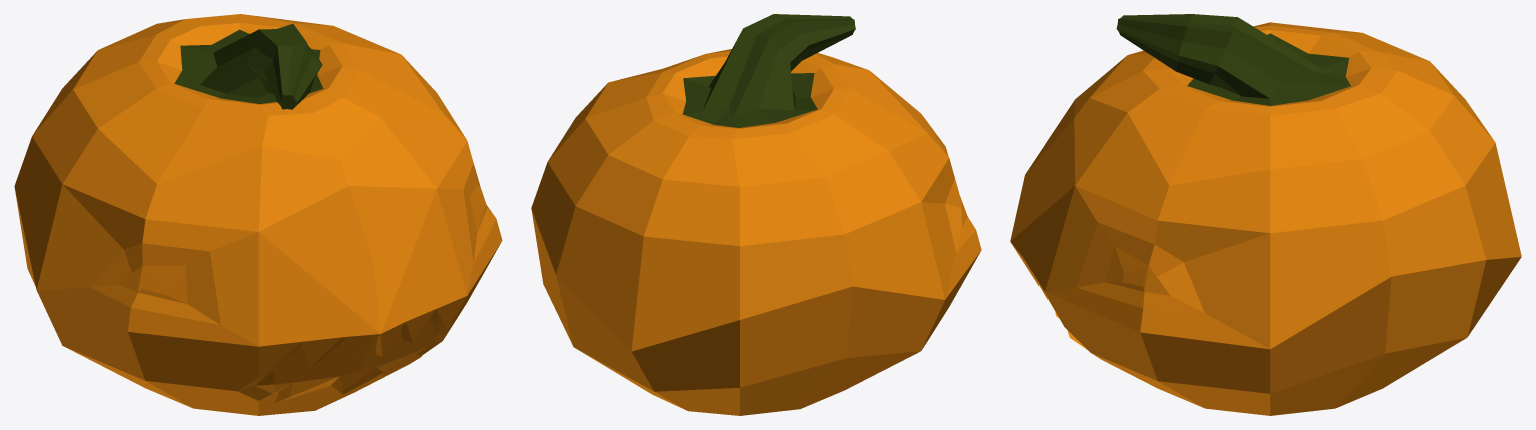
File: pumpkin_field.glb
3 views of the same model, side by side, from view 1: azimuth 30°, elevation 25°; view 2: azimuth 150°, elevation 25°; view 3: azimuth 270°, elevation 25° (orthographic). The views are drawn at different scales.
Visible parts, largest first — view 1: pumpkin_field; view 2: pumpkin_field; view 3: pumpkin_field.
Part boxes in pixels (box(x1,y1,x2,y2)): pumpkin_field: box(14, 14, 502, 415); pumpkin_field: box(531, 14, 981, 415); pumpkin_field: box(1010, 14, 1521, 415).
Bounding box in the file's own units: 0.192 × 0.1467 × 0.1967.
1 material, 1 textured.
